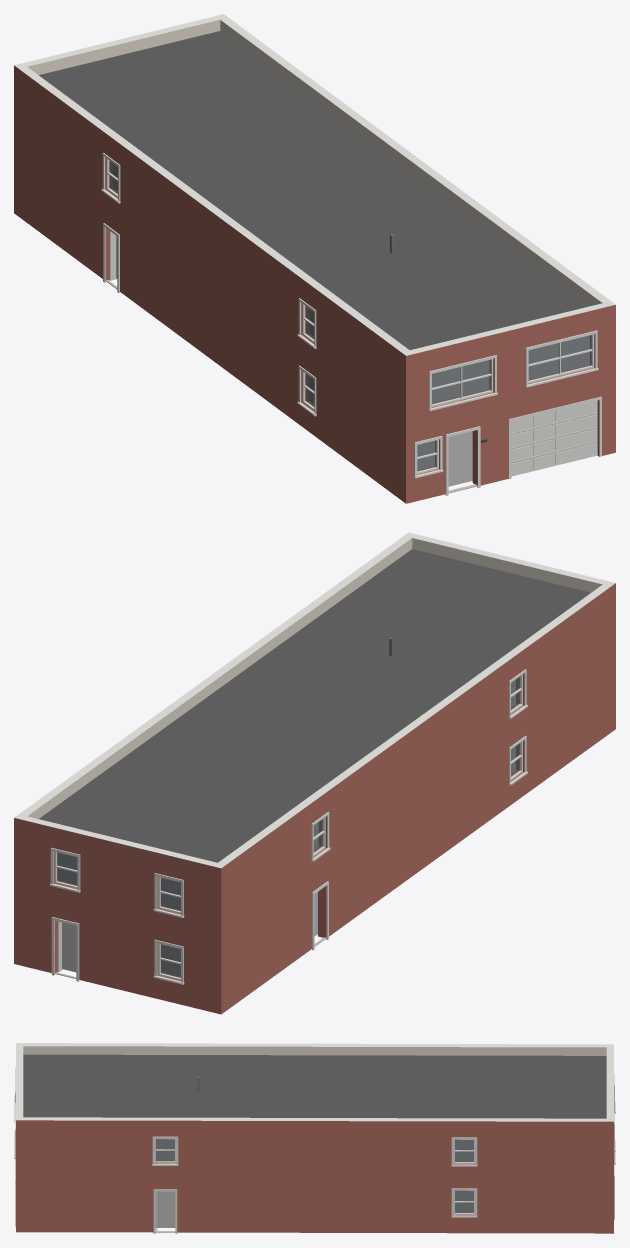
File: exterior.glb
3 renders of one model, top to bottom at view 1: azimuth 30°, elevation 25°; view 2: azimuth 150°, elevation 25°; view 3: azimuth 270°, elevation 25°, orthographic. The views are drawn at different scales.
Parts seen in each view (by area): view 1: shell, roof, doors, shadow-proxy, glazing, trim, frames; view 2: shell, roof, trim, shadow-proxy, glazing, frames; view 3: shell, roof, shadow-proxy, trim, glazing, frames.
Part boxes in pixels (x1=…): shell: x1=14, y1=14, x2=615, y2=503; roof: x1=39, y1=31, x2=590, y2=349; doors: x1=105, y1=231, x2=601, y2=493; shadow-proxy: x1=113, y1=164, x2=589, y2=486; glazing: x1=109, y1=160, x2=591, y2=471; trim: x1=101, y1=153, x2=598, y2=495; frames: x1=106, y1=158, x2=594, y2=474; shell: x1=14, y1=532, x2=615, y2=1014; roof: x1=39, y1=549, x2=590, y2=862; trim: x1=50, y1=669, x2=527, y2=984; shadow-proxy: x1=58, y1=680, x2=515, y2=976; glazing: x1=57, y1=677, x2=519, y2=977; frames: x1=54, y1=674, x2=522, y2=980; shell: x1=16, y1=1043, x2=613, y2=1233; roof: x1=23, y1=1054, x2=606, y2=1118; shadow-proxy: x1=155, y1=1139, x2=473, y2=1227; trim: x1=14, y1=1067, x2=615, y2=1233; glazing: x1=156, y1=1139, x2=473, y2=1212; frames: x1=154, y1=1138, x2=475, y2=1214.
Bounding box in the file's own units: 8.72 × 6 × 27.82.
